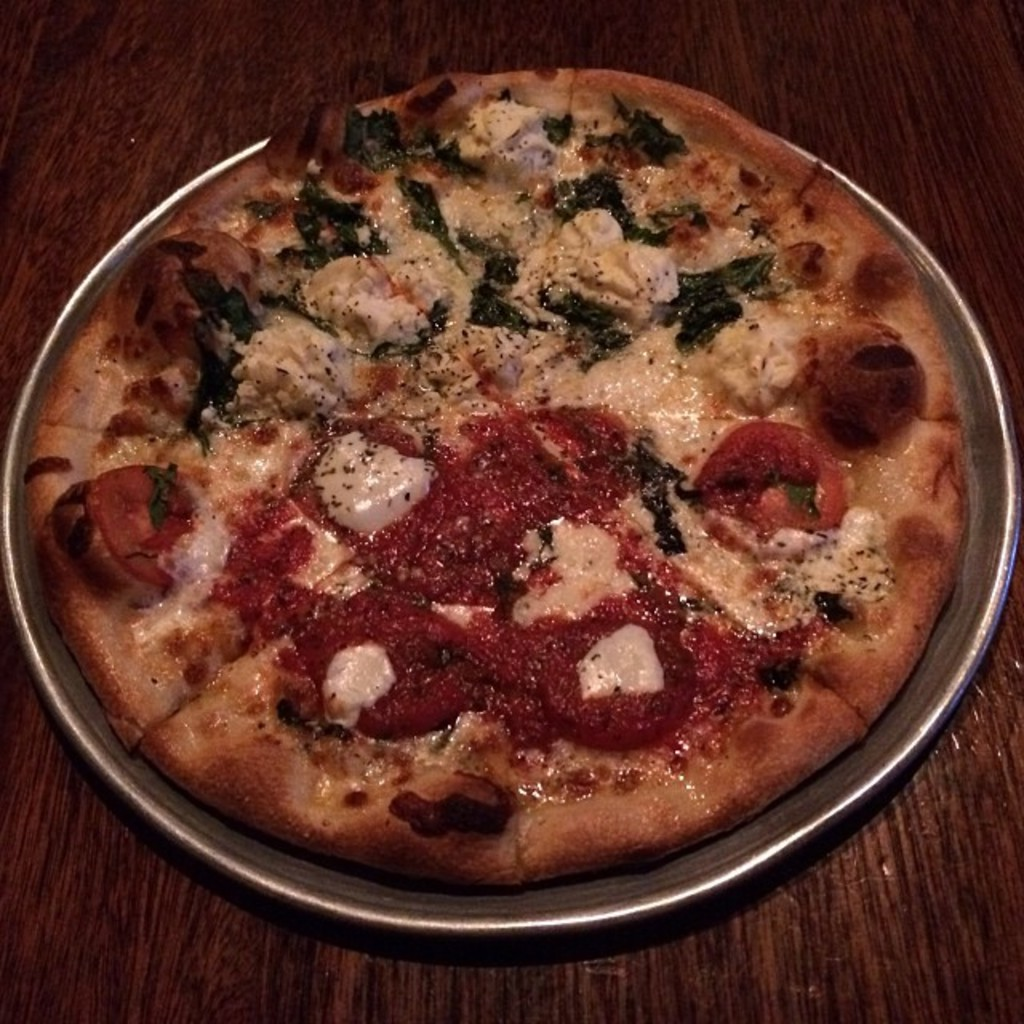Pizza: (27, 57, 977, 880)
